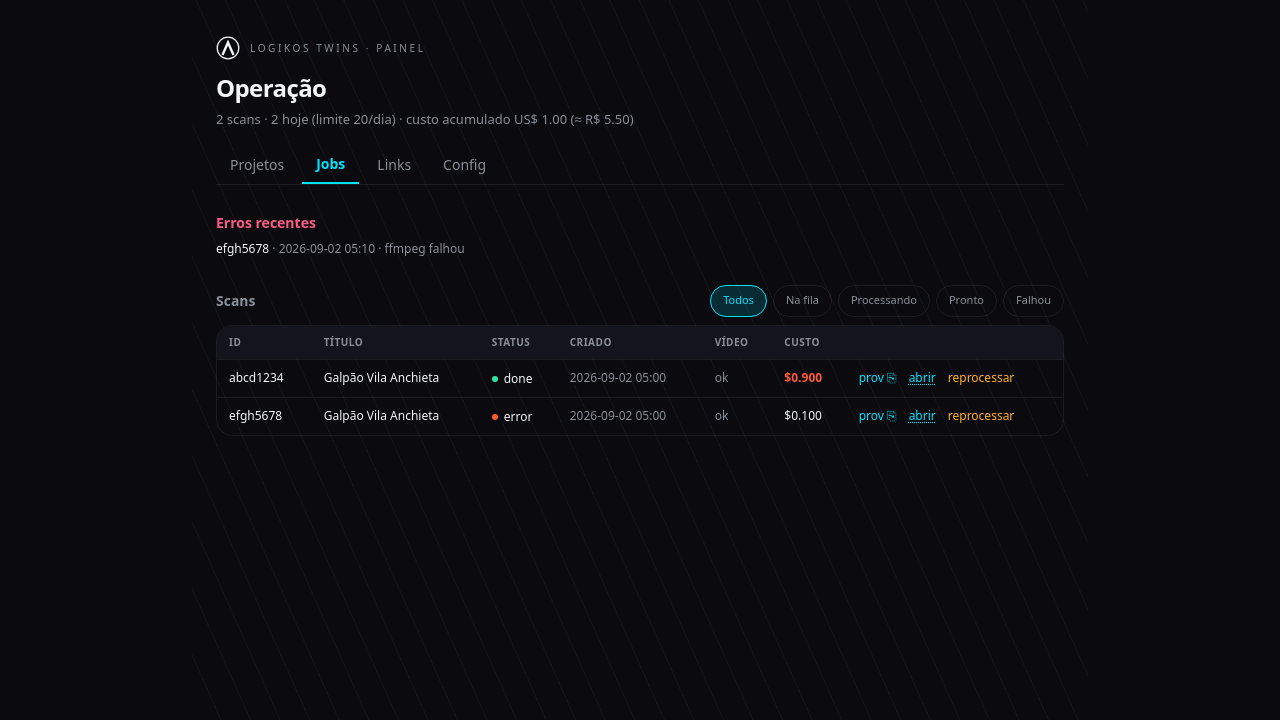
Test case: gate de plugs — tela admin (contrato v1.2) › config (#39): aba real com admin.config.save; salvar persiste pela rota
The width and height of the screenshot is (1280, 720).
Step 1. Click the button "Config" → (465, 164), box [429,146,500,184]
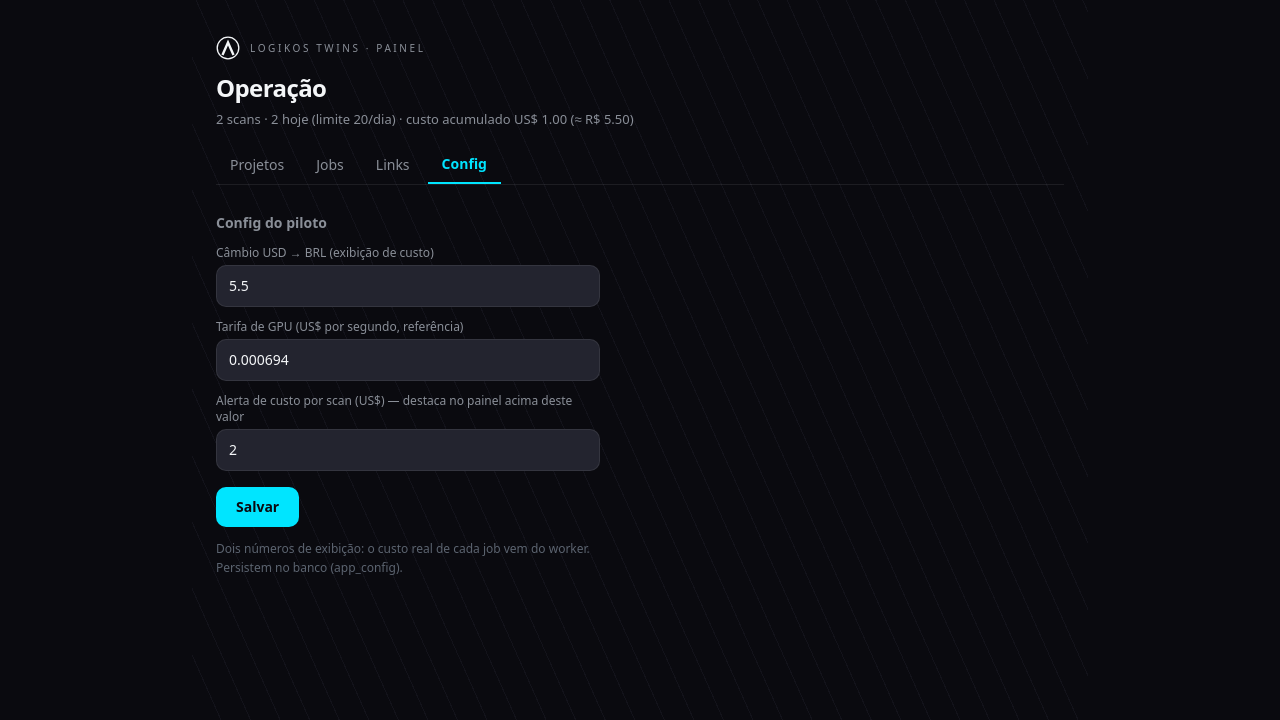
Now the button "Salvar" is shown, box [216,486,299,526]
Now the number of number fields is 3, box [216,264,600,306]; [216,338,600,380]; [216,428,600,470]
